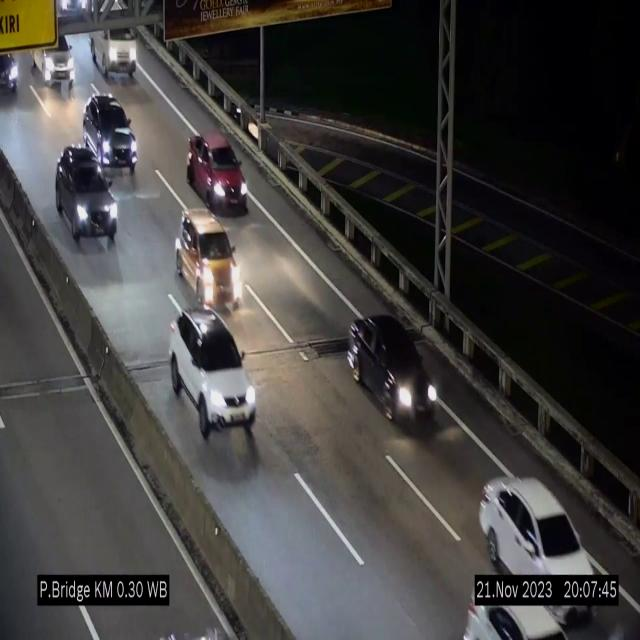Car: (475, 459, 607, 630), (170, 287, 256, 437), (348, 318, 438, 432), (453, 578, 584, 640), (170, 204, 246, 308), (56, 147, 118, 260), (187, 133, 248, 214), (87, 0, 143, 82), (83, 94, 137, 175), (28, 25, 80, 96), (0, 36, 22, 106)
